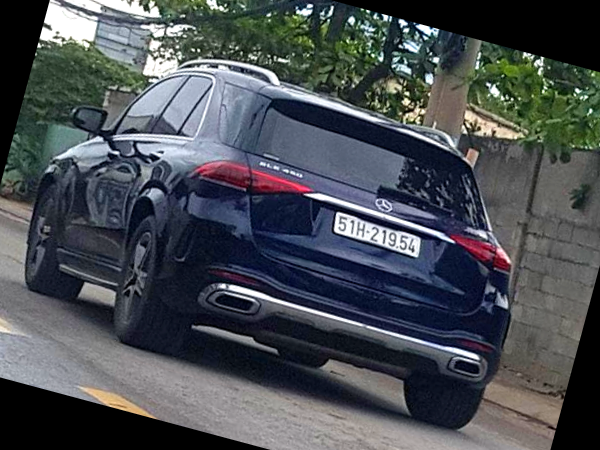lisence: (332, 210, 421, 259)
